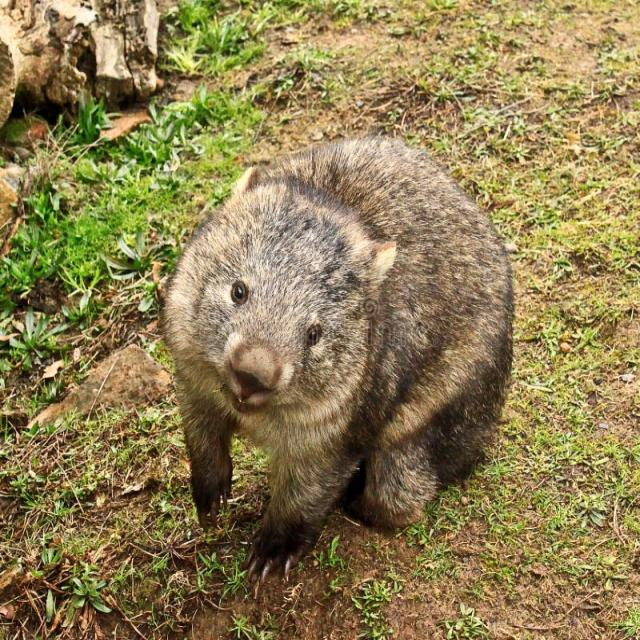Wombat: (158, 128, 519, 563)
